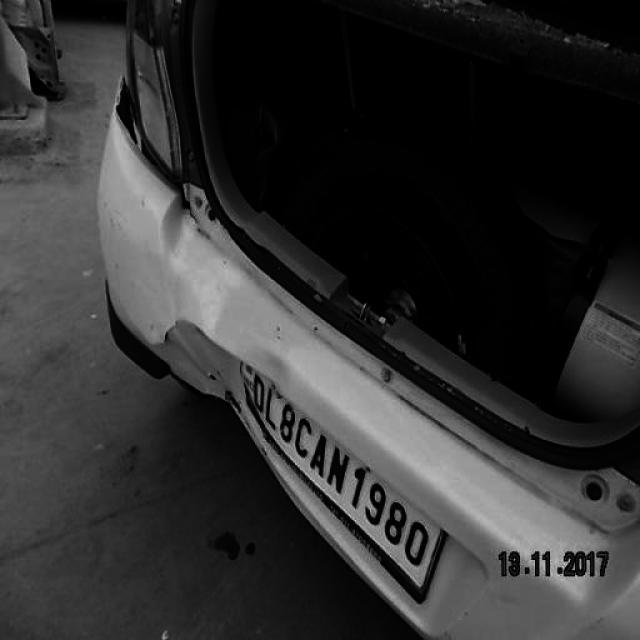car damage: (118, 82, 201, 232), (155, 309, 251, 417), (258, 345, 293, 393)
